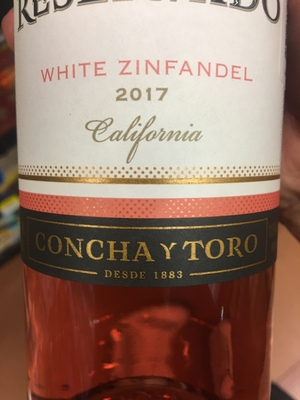reservado white zinfandel: (13, 1, 288, 400)
